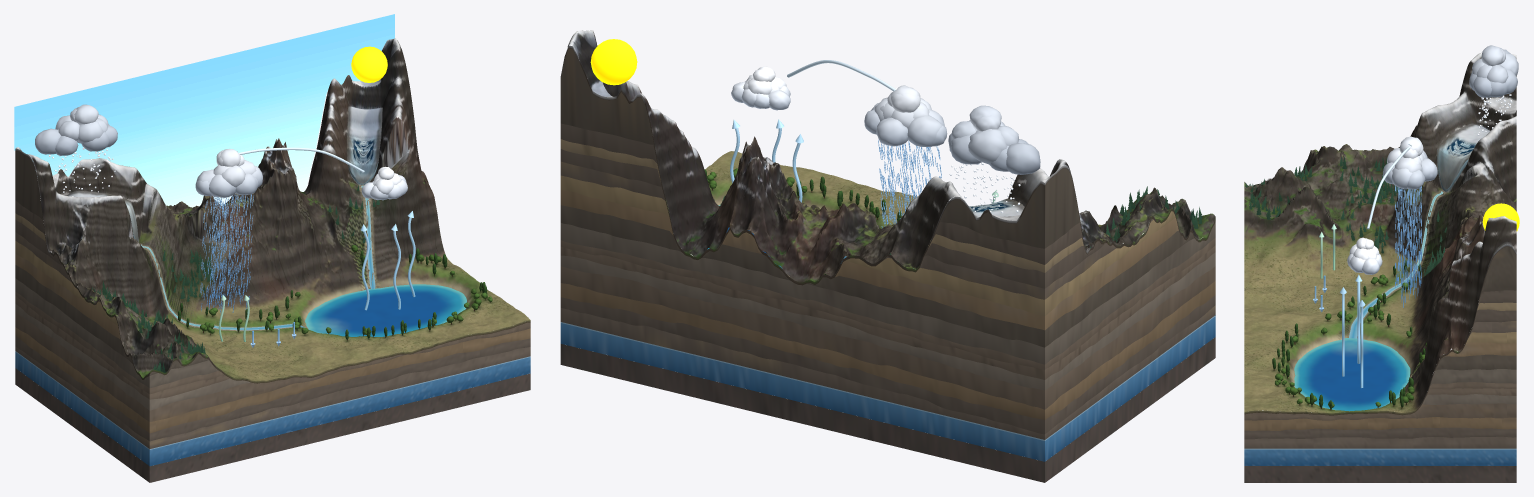
Rendered from water-cycle.glb.
3 views of the same model, side by side, from view 1: azimuth 30°, elevation 25°; view 2: azimuth 150°, elevation 25°; view 3: azimuth 270°, elevation 25° (orthographic). The views are drawn at different scales.
Visible parts, largest first — view 1: Ground, Atmosphere, Aquifer_Mesh, Lake_Mesh, Trees, Precip_Rain, Cloud_Rain, Glacier_2, Cloud_Valley, Cloud_Lake, Sun, Arrow_Evaporation (+1 smaller); view 2: Ground, Aquifer_Mesh, Cloud_Rain, Cloud_Valley, Precip_Rain, Cloud_Lake, Sun, Trees, Aquifer_WaterTable, Arrow_Evaporation; view 3: Ground, Lake_Mesh, Trees, Aquifer_Mesh, Precip_Rain, Cloud_Rain, Cloud_Valley, Glacier, Cloud_Lake, Arrow_Evaporation, River_Main, Aquifer_WaterTable (+2 smaller).
Boxes of the visible parts, x1,y1,x2,y2 form: Ground: [15, 38, 530, 482]; Atmosphere: [14, 14, 394, 207]; Aquifer_Mesh: [15, 352, 530, 466]; Lake_Mesh: [305, 284, 466, 336]; Trees: [92, 185, 492, 372]; Precip_Rain: [200, 194, 253, 312]; Cloud_Rain: [35, 104, 117, 155]; Glacier_2: [347, 106, 382, 184]; Cloud_Valley: [195, 148, 262, 197]; Cloud_Lake: [361, 166, 407, 200]; Sun: [351, 46, 387, 82]; Arrow_Evaporation: [360, 211, 415, 310]; Ground: [560, 30, 1215, 482]; Aquifer_Mesh: [560, 316, 1215, 461]; Cloud_Rain: [948, 105, 1040, 174]; Cloud_Valley: [864, 85, 947, 146]; Precip_Rain: [878, 139, 941, 228]; Cloud_Lake: [731, 66, 790, 110]; Sun: [590, 39, 637, 85]; Trees: [704, 168, 1202, 274]; Aquifer_WaterTable: [560, 315, 1215, 440]; Arrow_Evaporation: [730, 119, 803, 202]; Ground: [1244, 52, 1516, 482]; Lake_Mesh: [1294, 338, 1410, 411]; Trees: [1245, 157, 1446, 410]; Aquifer_Mesh: [1244, 449, 1516, 465]; Precip_Rain: [1395, 186, 1421, 307]; Cloud_Rain: [1469, 45, 1518, 97]; Cloud_Valley: [1382, 136, 1437, 189]; Glacier: [1437, 124, 1489, 191]; Cloud_Lake: [1347, 237, 1382, 274]; Arrow_Evaporation: [1340, 274, 1365, 387]; River_Main: [1349, 191, 1443, 338]; Aquifer_WaterTable: [1244, 448, 1516, 449].
Bounding box in the file's own units: 7.2 × 5 × 4.45.
Materials: 14 (3 with a texture image).
